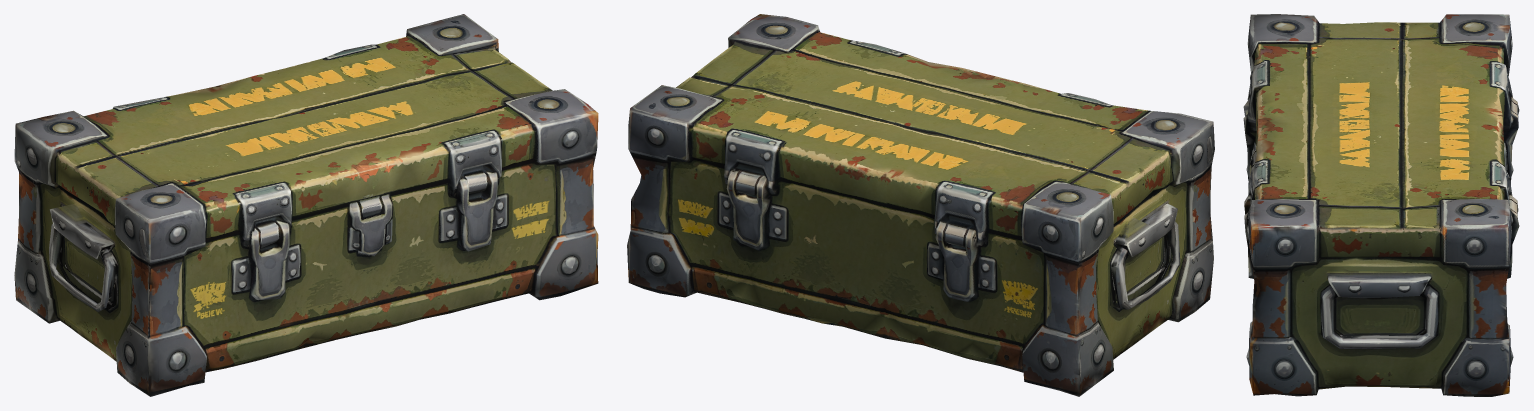
Rendered from Loot_MilitaryCrate_Closed.fbx.
3 renders of one model, left to right at view 1: azimuth 30°, elevation 25°; view 2: azimuth 150°, elevation 25°; view 3: azimuth 270°, elevation 25°, orthographic. The views are drawn at different scales.
Parts seen in each view (by area): view 1: texture_mapping; view 2: texture_mapping; view 3: texture_mapping.
Boxes of the visible parts, box(x1,y1,x2,y2) form: texture_mapping: box(14, 14, 598, 396); texture_mapping: box(627, 14, 1214, 396); texture_mapping: box(1243, 14, 1519, 396).
Size of the model in its own units: 0.9988 by 0.5288 by 0.3713.
Materials: 1 (1 with a texture image).
